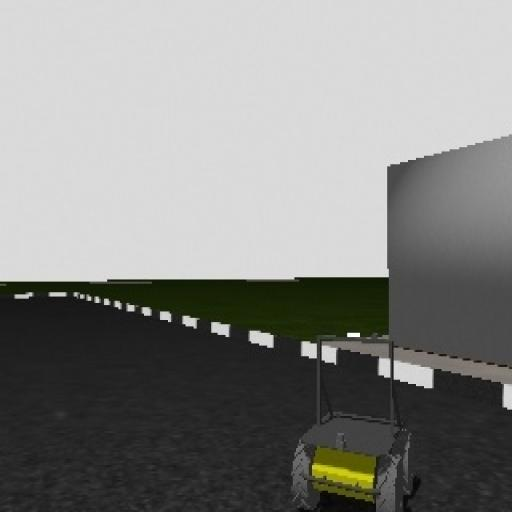huskya200: (279, 308, 437, 512)
